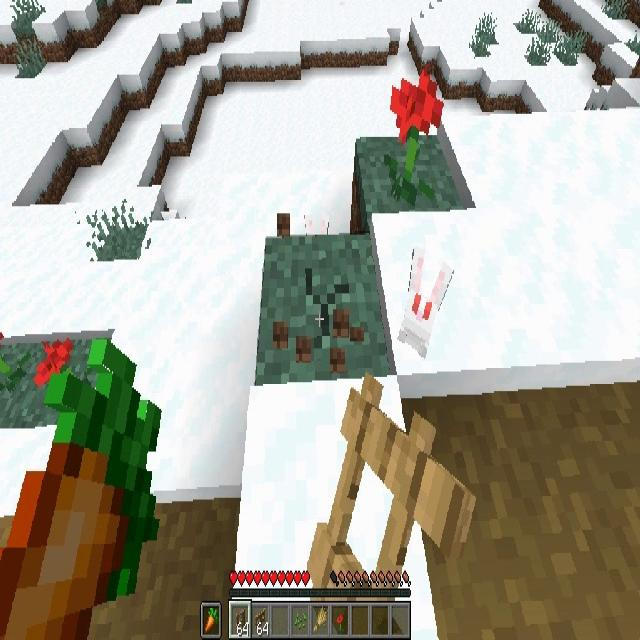rabbit: (391, 243, 453, 359)
